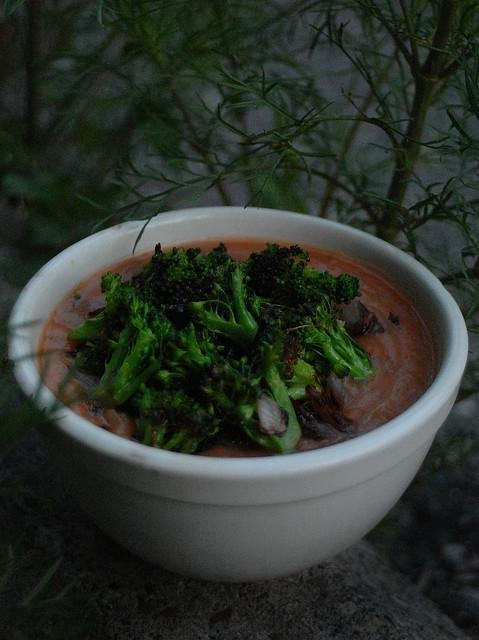broccoli: (150, 242, 262, 352), (90, 281, 175, 406), (261, 292, 373, 379), (242, 242, 316, 309), (67, 270, 123, 342), (288, 266, 362, 305), (162, 322, 213, 374), (152, 388, 196, 448), (68, 335, 110, 376), (294, 357, 320, 387), (250, 374, 263, 386)
